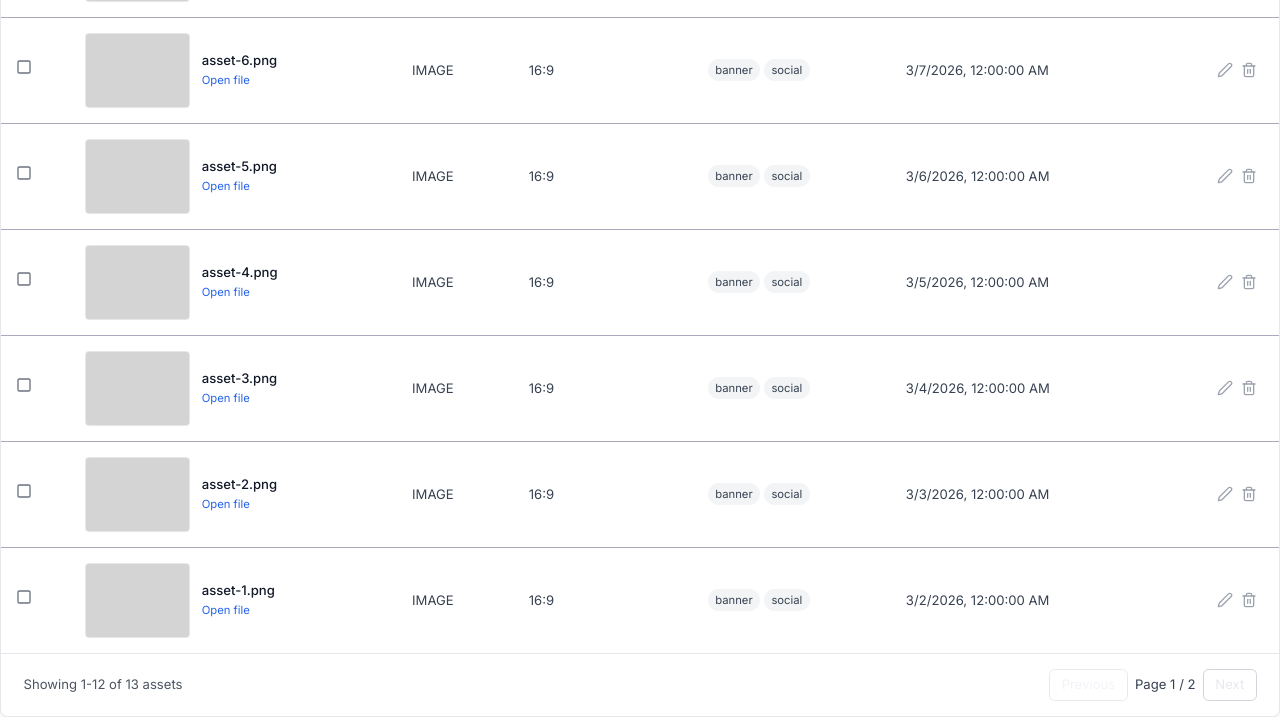
Scenario: MediaAssetsPage › supports pagination controls
(page scrolled)
expect the text "Page 1 / 2" is shown: met, box [1135,675,1196,694]
Click the button "Next" at [1230, 684], box [1203,668,1256,700]
(page scrolled)
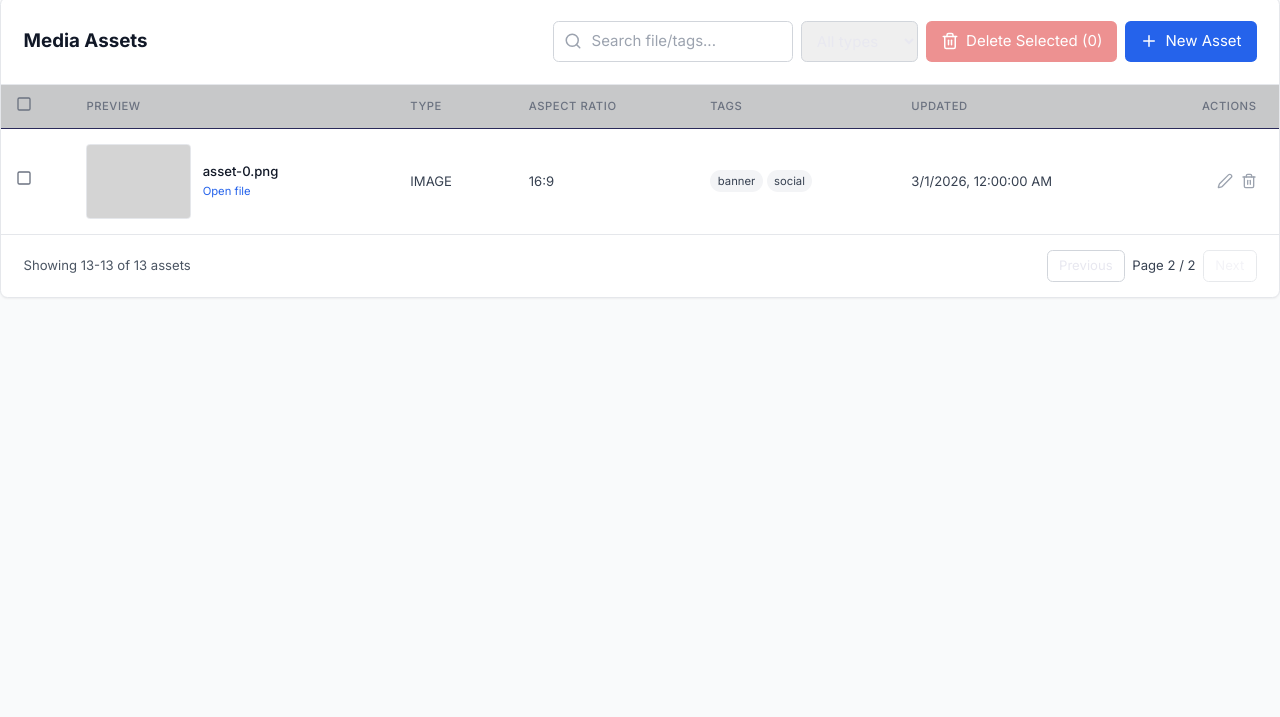
expect the text "Page 2 / 2" is shown: met, box [1132,256,1196,275]
